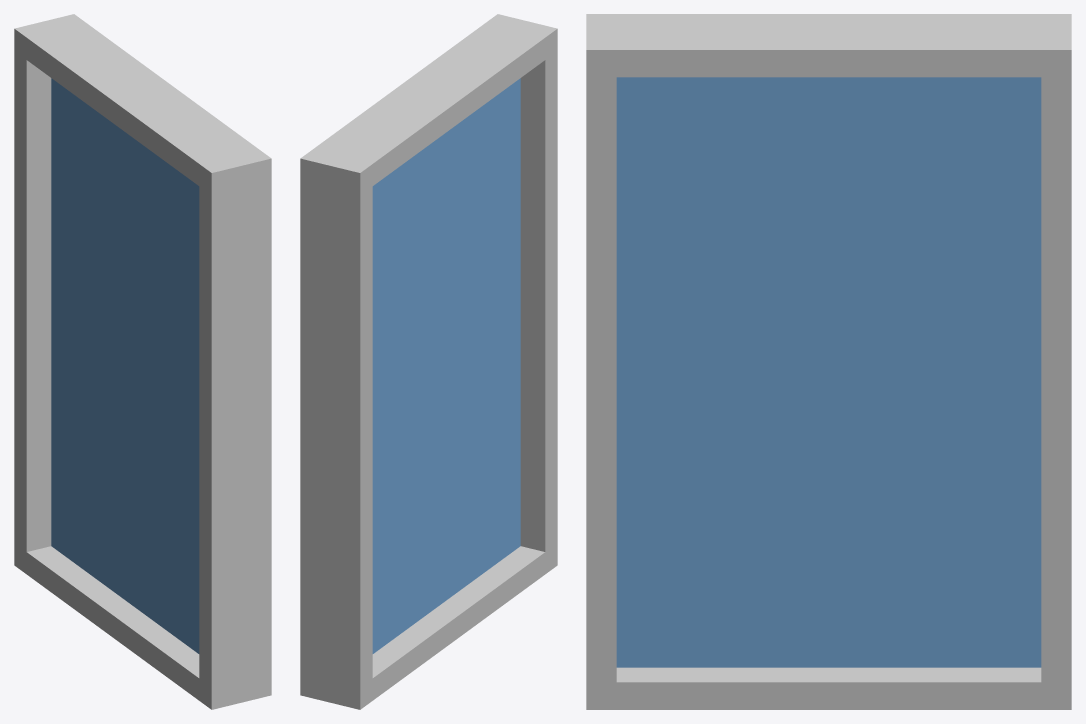
File: Window.glb
3 renders of one model, left to right at view 1: azimuth 30°, elevation 25°; view 2: azimuth 150°, elevation 25°; view 3: azimuth 270°, elevation 25°, orthographic. The views are drawn at different scales.
Visible parts, largest first — view 1: Window; view 2: Window; view 3: Window.
Part boxes in pixels (box(x1,y1,x2,y2)): Window: box(14, 14, 271, 709); Window: box(300, 14, 557, 709); Window: box(586, 14, 1071, 709).
Size of the model in its own units: 0.35 by 3 by 2.
